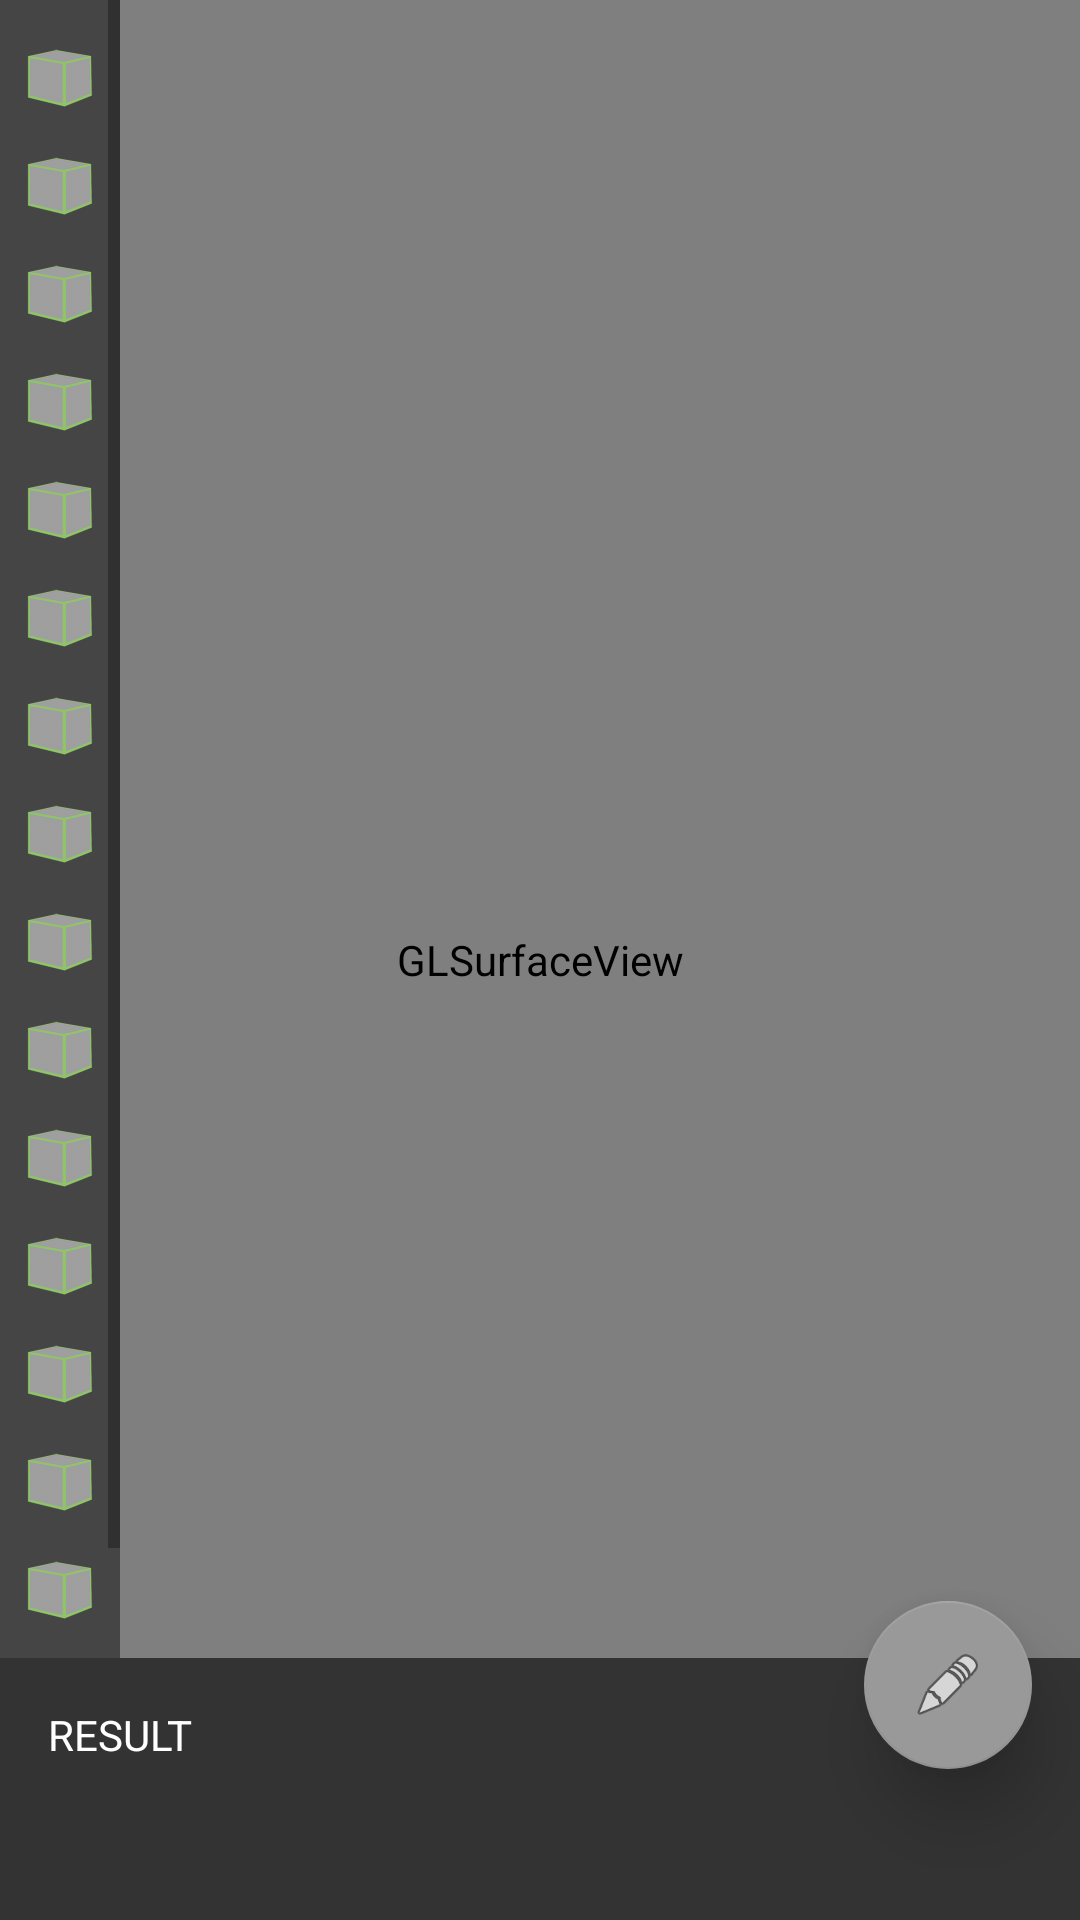

Named icons in this screenshot (1080px×1920px) and their centers, (x,y):
edit: (948,1685)
